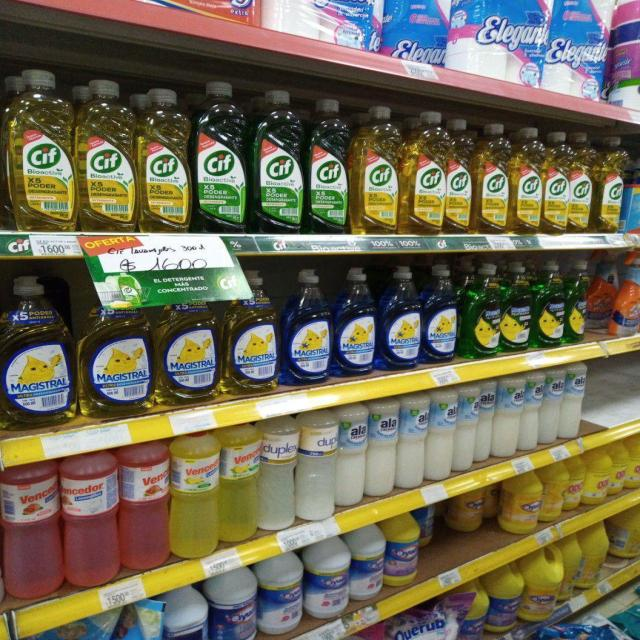ala_crem_blanco: (298, 408, 336, 520), (337, 403, 366, 508), (367, 398, 397, 498), (562, 362, 586, 440), (542, 368, 562, 445), (524, 370, 542, 449)
cif_conc_bot_amarilla: (6, 67, 74, 231), (76, 76, 135, 231), (137, 85, 190, 232), (351, 104, 400, 235), (402, 110, 444, 236), (474, 122, 510, 236), (512, 126, 542, 235), (446, 116, 473, 235), (596, 135, 625, 233), (544, 130, 568, 234), (570, 132, 594, 234)
cif_conc_botella_verde: (193, 80, 249, 233), (252, 88, 304, 234), (306, 95, 349, 234)
magistral_con_amarillo: (0, 274, 75, 431), (79, 292, 153, 418), (156, 291, 220, 406), (223, 271, 279, 396)
magistral_con_azul: (281, 267, 332, 386), (333, 266, 377, 377), (379, 264, 421, 370), (423, 263, 458, 364)
magistral_con_verde: (461, 264, 501, 362), (533, 260, 567, 346), (502, 268, 530, 356), (568, 262, 589, 341)
